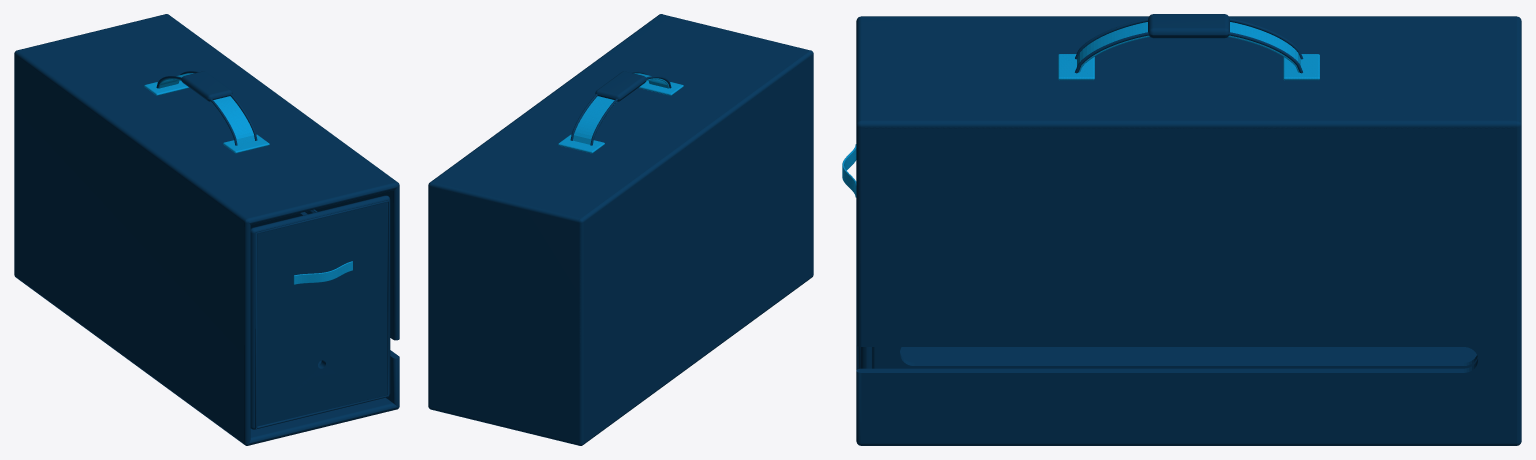
File: belt-storage.glb
3 views of the same model, side by side, from view 1: azimuth 30°, elevation 25°; view 2: azimuth 150°, elevation 25°; view 3: azimuth 270°, elevation 25° (orthographic). The views are drawn at different scales.
Visible parts, largest first — view 1: Cabinet_side, Cabinet_top, Drawer_front, Cabinet_side.001, Cabinet_bottom, Front_sewn_edge, Carry_handle_webbing, Carry_handle_padded_grip, Drawer_webbing_pull, Cabinet_back, Carry_handle_anchor; view 2: Cabinet_side, Cabinet_back, Cabinet_top, Carry_handle_webbing, Carry_handle_padded_grip, Cabinet_side.001, Carry_handle_anchor.001; view 3: Cabinet_side.001, Cabinet_top, Cabinet_bottom, Drawer_side.001, Carry_handle_padded_grip, Cabinet_back, Carry_handle_webbing, Carry_handle_anchor, Carry_handle_anchor.001, Carry_handle_binding.001.
Boxes of the visible parts, x1,y1,x2,y2 form: Cabinet_side: (15,50,250,445); Cabinet_top: (15,14,397,224); Drawer_front: (250,195,390,429); Cabinet_side.001: (166,14,399,409); Cabinet_bottom: (15,275,397,445); Front_sewn_edge: (255,200,389,428); Carry_handle_webbing: (158,73,254,144); Carry_handle_padded_grip: (181,71,232,101); Drawer_webbing_pull: (293,261,352,284); Cabinet_back: (14,14,166,275); Carry_handle_anchor: (223,134,269,153); Cabinet_side: (579,50,813,445); Cabinet_back: (428,182,583,445); Cabinet_top: (432,14,812,218); Carry_handle_webbing: (573,73,669,144); Carry_handle_padded_grip: (595,71,646,101); Cabinet_side.001: (428,14,661,409); Carry_handle_anchor.001: (558,134,604,153); Cabinet_side.001: (856,120,1521,445); Cabinet_top: (856,17,1516,128); Cabinet_bottom: (856,345,1515,442); Drawer_side.001: (872,347,1477,368); Carry_handle_padded_grip: (1148,14,1229,38); Cabinet_back: (1516,16,1521,445); Carry_handle_webbing: (1077,22,1300,72); Carry_handle_anchor: (1058,54,1094,80); Carry_handle_anchor.001: (1283,54,1319,80); Carry_handle_binding.001: (1075,32,1302,73).
Size of what is drawn, in the model's own units: 0.127 by 0.204 by 0.3372.
Materials: 3 (3 with a texture image).
